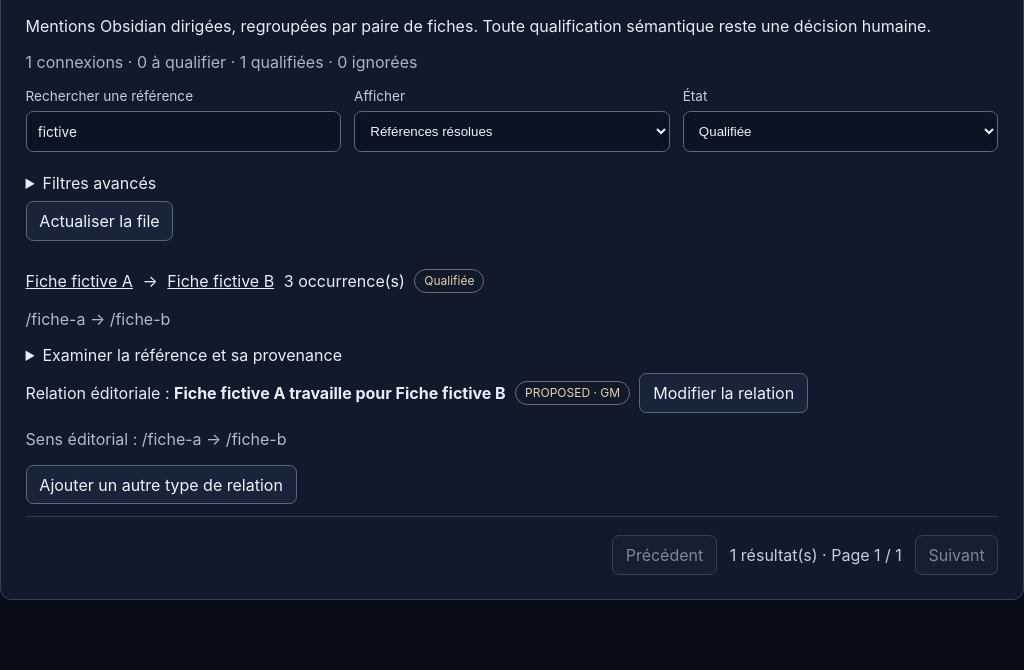
Test: correction depuis la file de qualification › confirme une inversion puis recharge la file et ses compteurs en gardant les filtres
The image size is (1024, 670).
Click the button with aria-label "Modifier la relation :": (724, 393) [640,373,808,413]
(page scrolled)
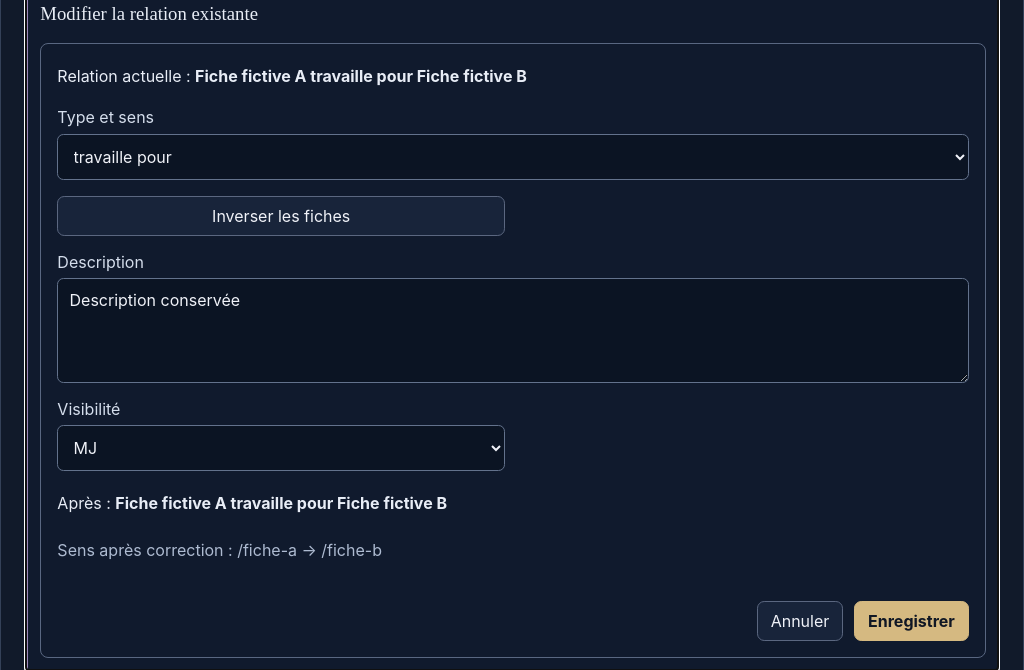
Click the button "Inverser les fiches": (281, 216) [57,196,505,236]
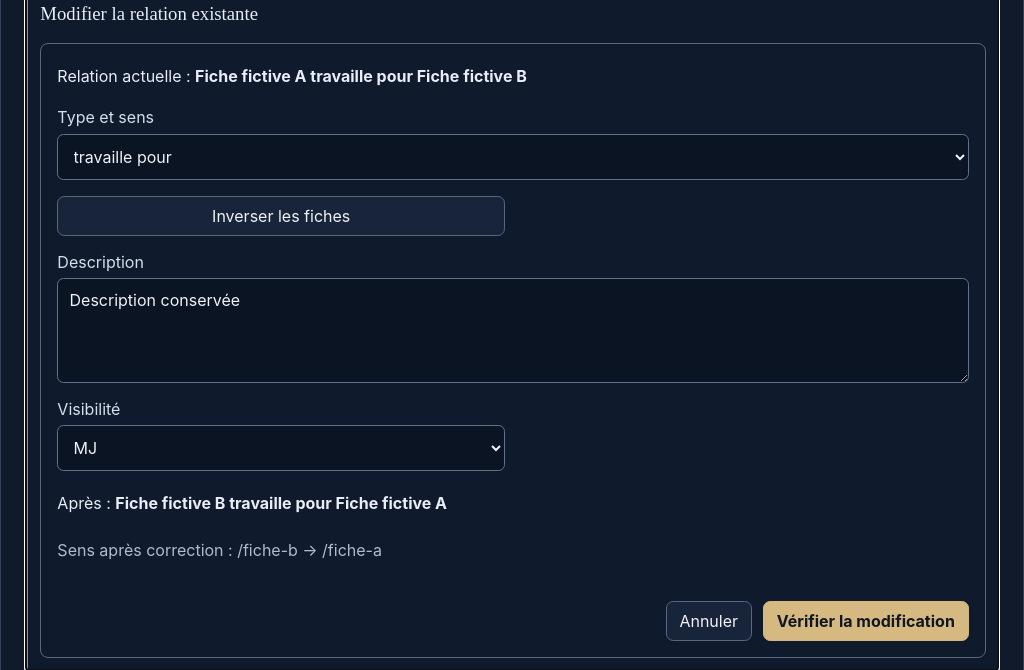
Click the button "Vérifier la modification": (866, 621) [763,601,969,640]
(page scrolled)
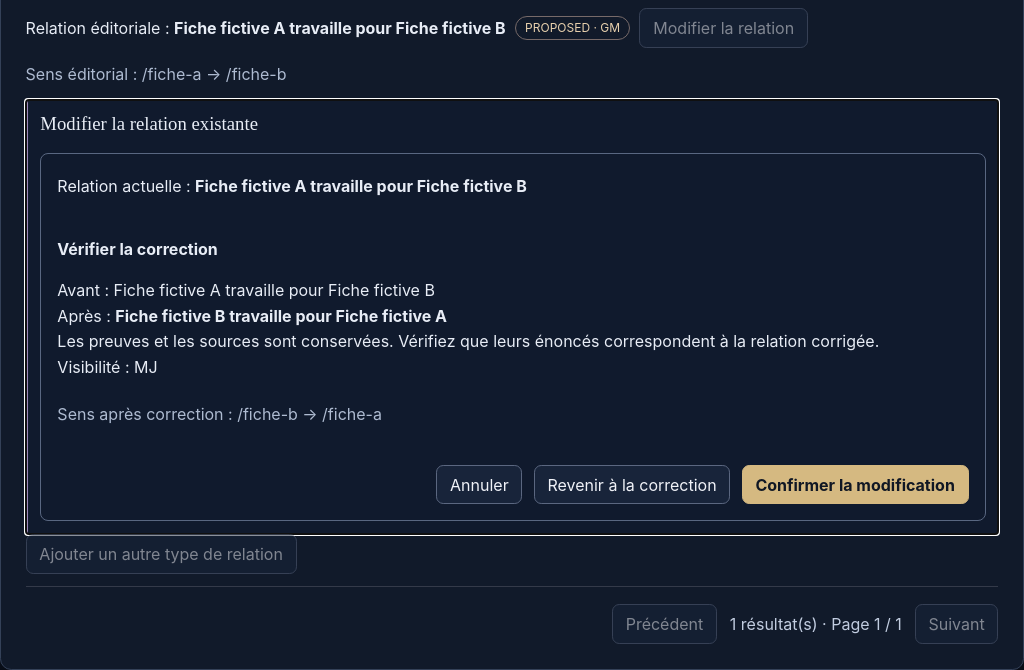
Click the button "Confirmer la modification": (855, 485) [742,465,969,504]
(page scrolled)
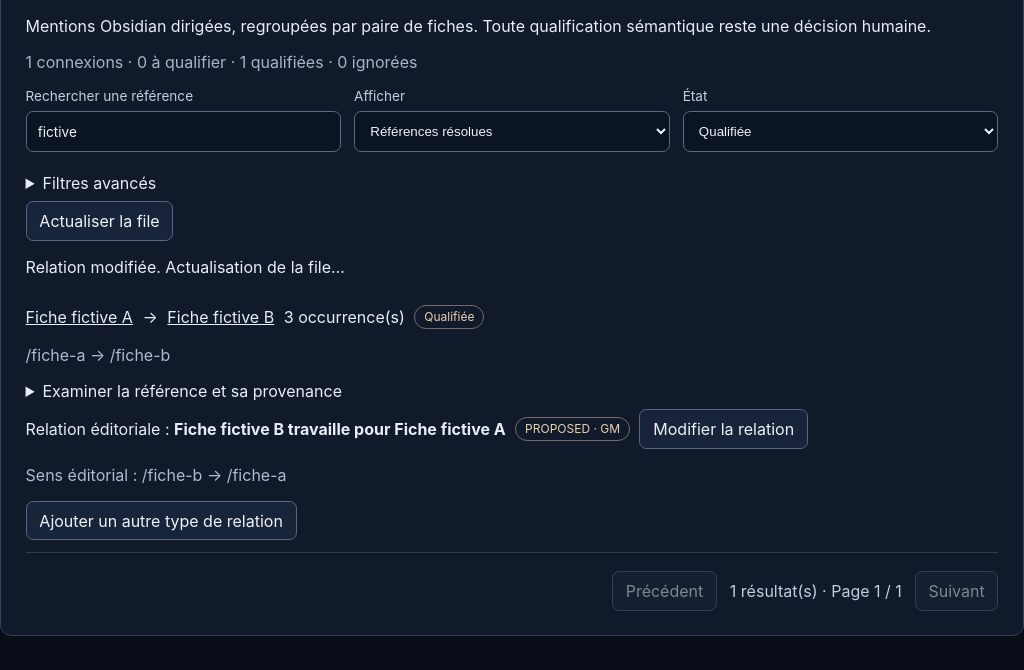
expect the search field holds "fictive": met, box [26,111,341,152]
expect the text "Sens éditorial : /fiche-b → /fiche-a" is shown: met, box [26,465,287,485]
expect the button "Confirmer la modification" is gone: met
